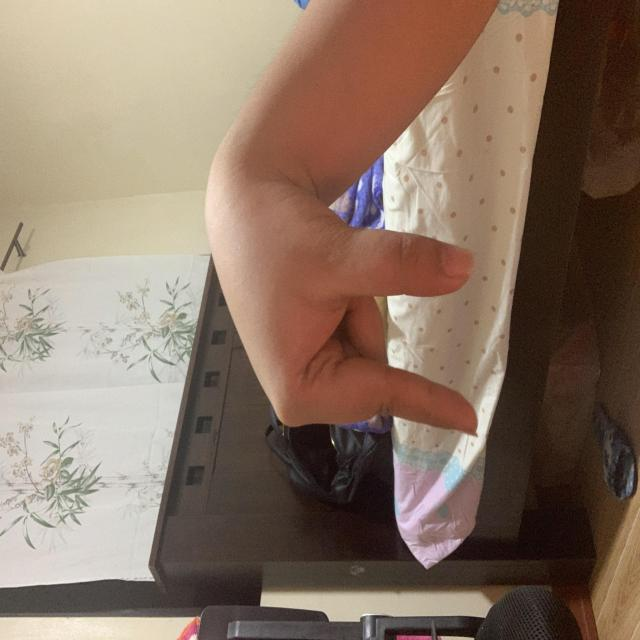Q: (200, 195, 448, 480)
